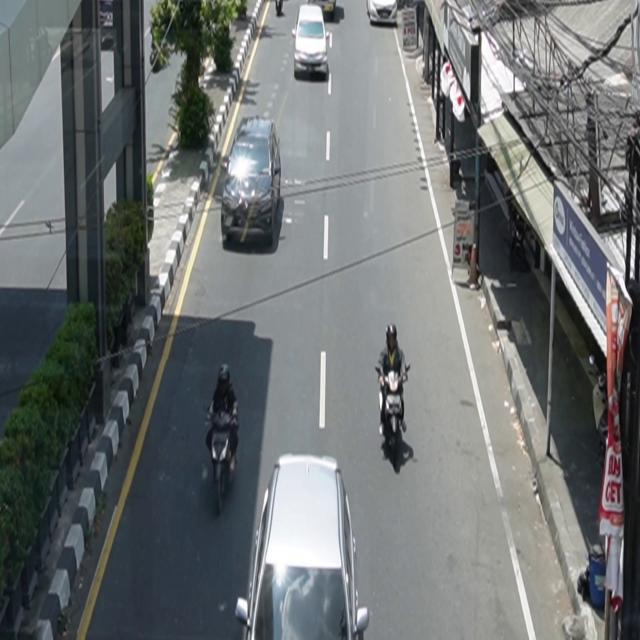car: (236, 453, 370, 640), (222, 116, 283, 247), (293, 4, 331, 79), (367, 1, 399, 26)
